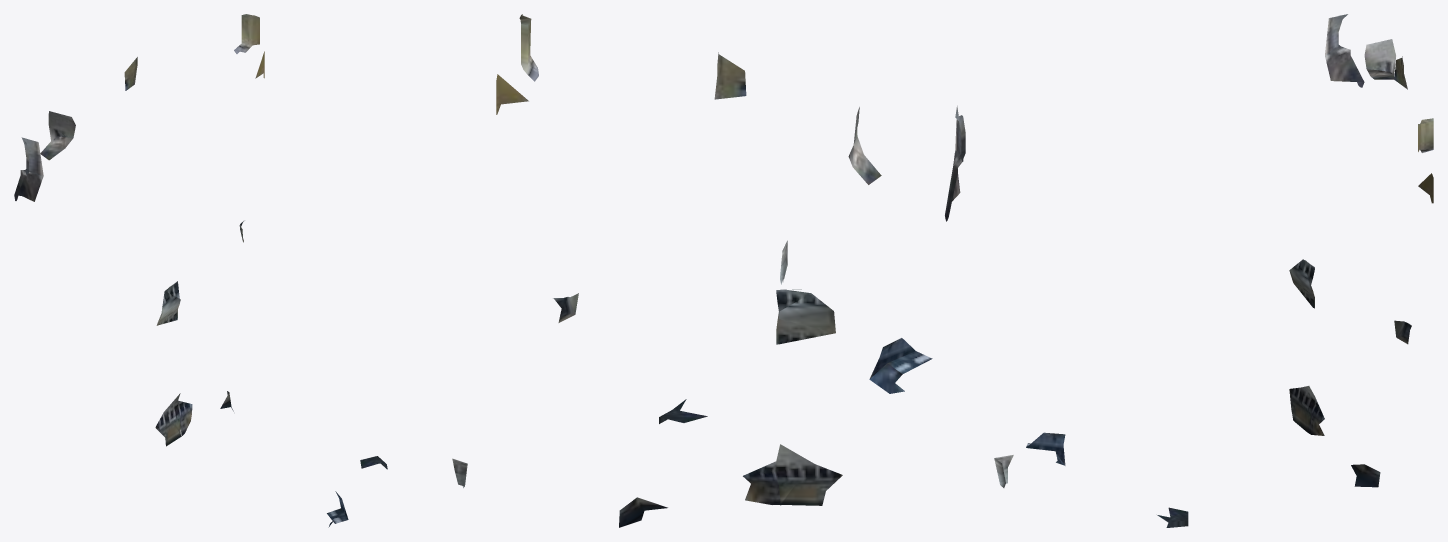
The picture shows the model from 3 angles, left to right: view 1: azimuth 30°, elevation 25°; view 2: azimuth 150°, elevation 25°; view 3: azimuth 270°, elevation 25°; orthographic projection. The views are drawn at different scales.
Parts seen in each view (by area): view 1: 30436272704361626616_1; view 2: 30436272704361626616_1; view 3: 30436272704361626616_1.
Boxes of the visible parts, left/top/right/bottom form: 30436272704361626616_1: left=14, top=14, right=467, bottom=527; 30436272704361626616_1: left=496, top=14, right=965, bottom=527; 30436272704361626616_1: left=994, top=14, right=1433, bottom=527.
Size of the model in its own units: 27.3 by 34.21 by 34.24.
1 material, 1 textured.
